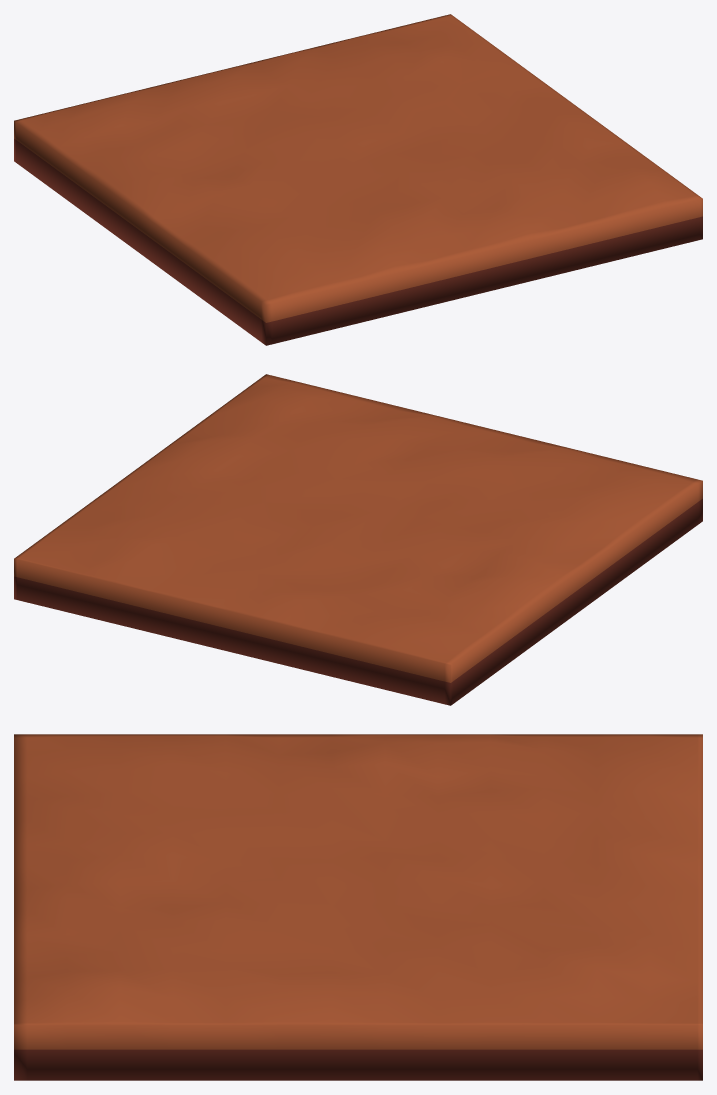
Rendered from terra-2.fbx.
The picture shows the model from 3 angles, top to bottom: view 1: azimuth 30°, elevation 25°; view 2: azimuth 150°, elevation 25°; view 3: azimuth 270°, elevation 25°; orthographic projection. The views are drawn at different scales.
Parts seen in each view (by area): view 1: terreno; view 2: terreno; view 3: terreno.
Boxes of the visible parts, x1,y1,x2,y2 form: terreno: (14,14,702,345); terreno: (14,374,702,705); terreno: (14,734,702,1080).
Bounding box in the file's own units: 597 × 68.21 × 597.
